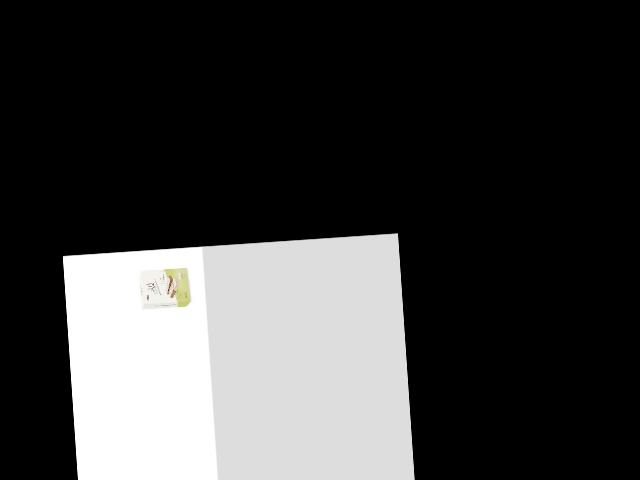chocolate: (138, 266, 192, 312)
